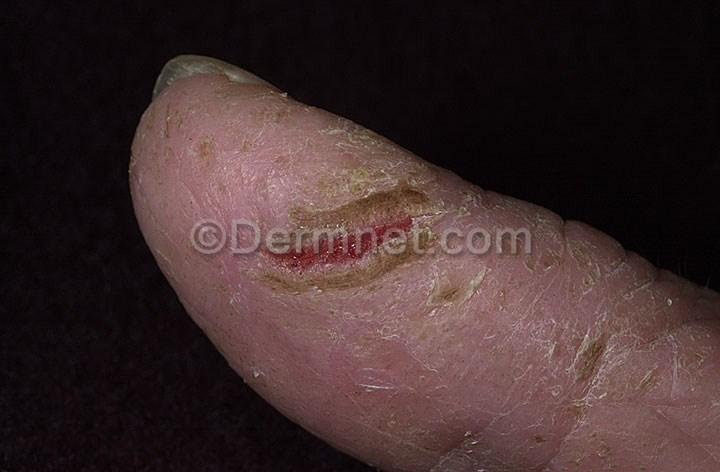Eczema: (264, 202, 443, 298), (274, 115, 455, 196), (530, 306, 672, 409), (511, 211, 627, 299), (143, 102, 241, 176)
